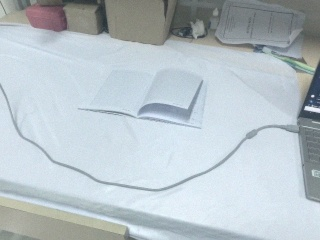bottle: (208, 7, 221, 34)
box: (102, 1, 179, 47), (63, 1, 107, 36)
phone: (217, 2, 304, 49)
